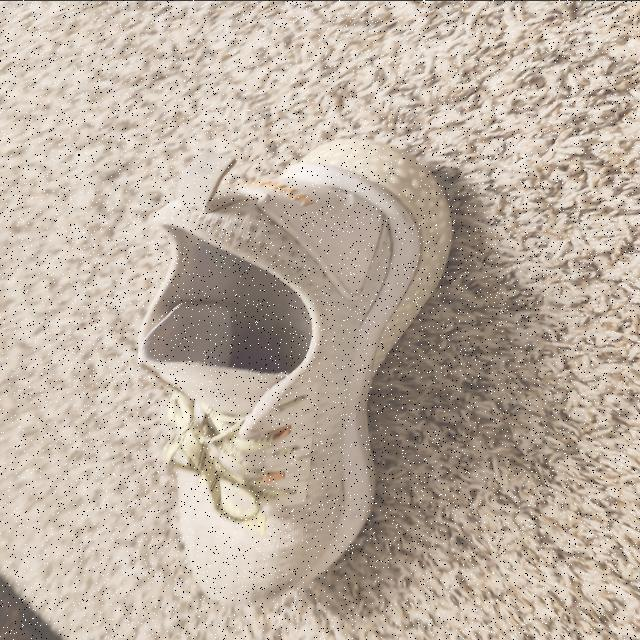white shoes: (140, 166, 423, 593)
